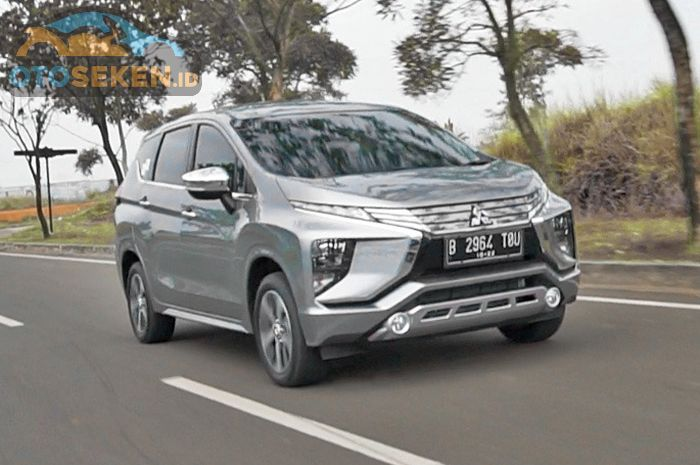plate: (445, 230, 522, 263)
